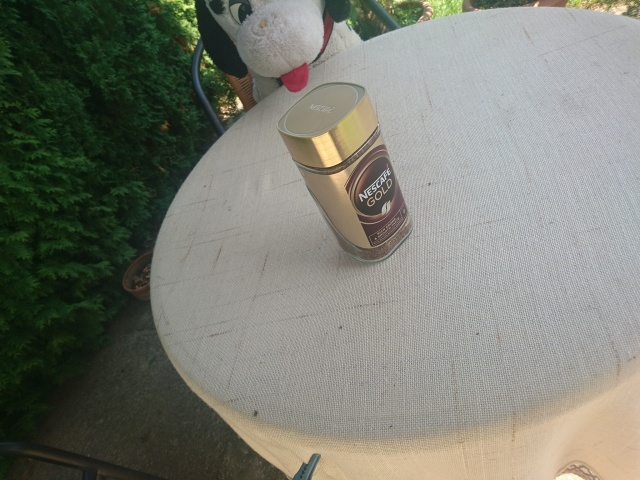Nescafe Gold 225g: (273, 79, 416, 267)
